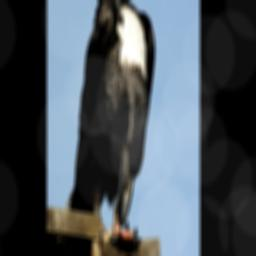Crow: (65, 0, 156, 250)
